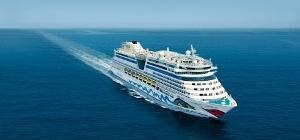youlun: (110, 39, 236, 119)
